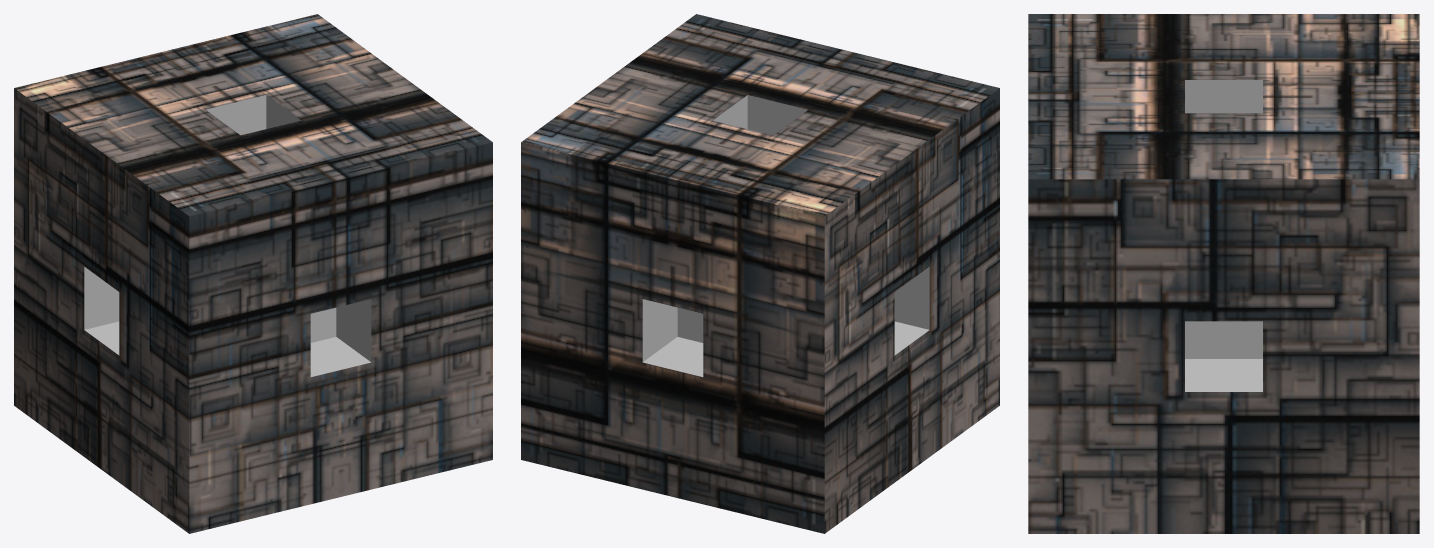
Rendered from unit_box.fbx.
The picture shows the model from 3 angles, left to right: view 1: azimuth 30°, elevation 25°; view 2: azimuth 150°, elevation 25°; view 3: azimuth 270°, elevation 25°; orthographic projection. The views are drawn at different scales.
Visible parts, largest first — view 1: pCube8; view 2: pCube8; view 3: pCube8.
Boxes of the visible parts, box(x1,y1,x2,y2) form: pCube8: box(14, 14, 492, 533); pCube8: box(521, 14, 999, 533); pCube8: box(1028, 14, 1419, 533).
Size of the model in its own units: 10 by 10 by 10.
